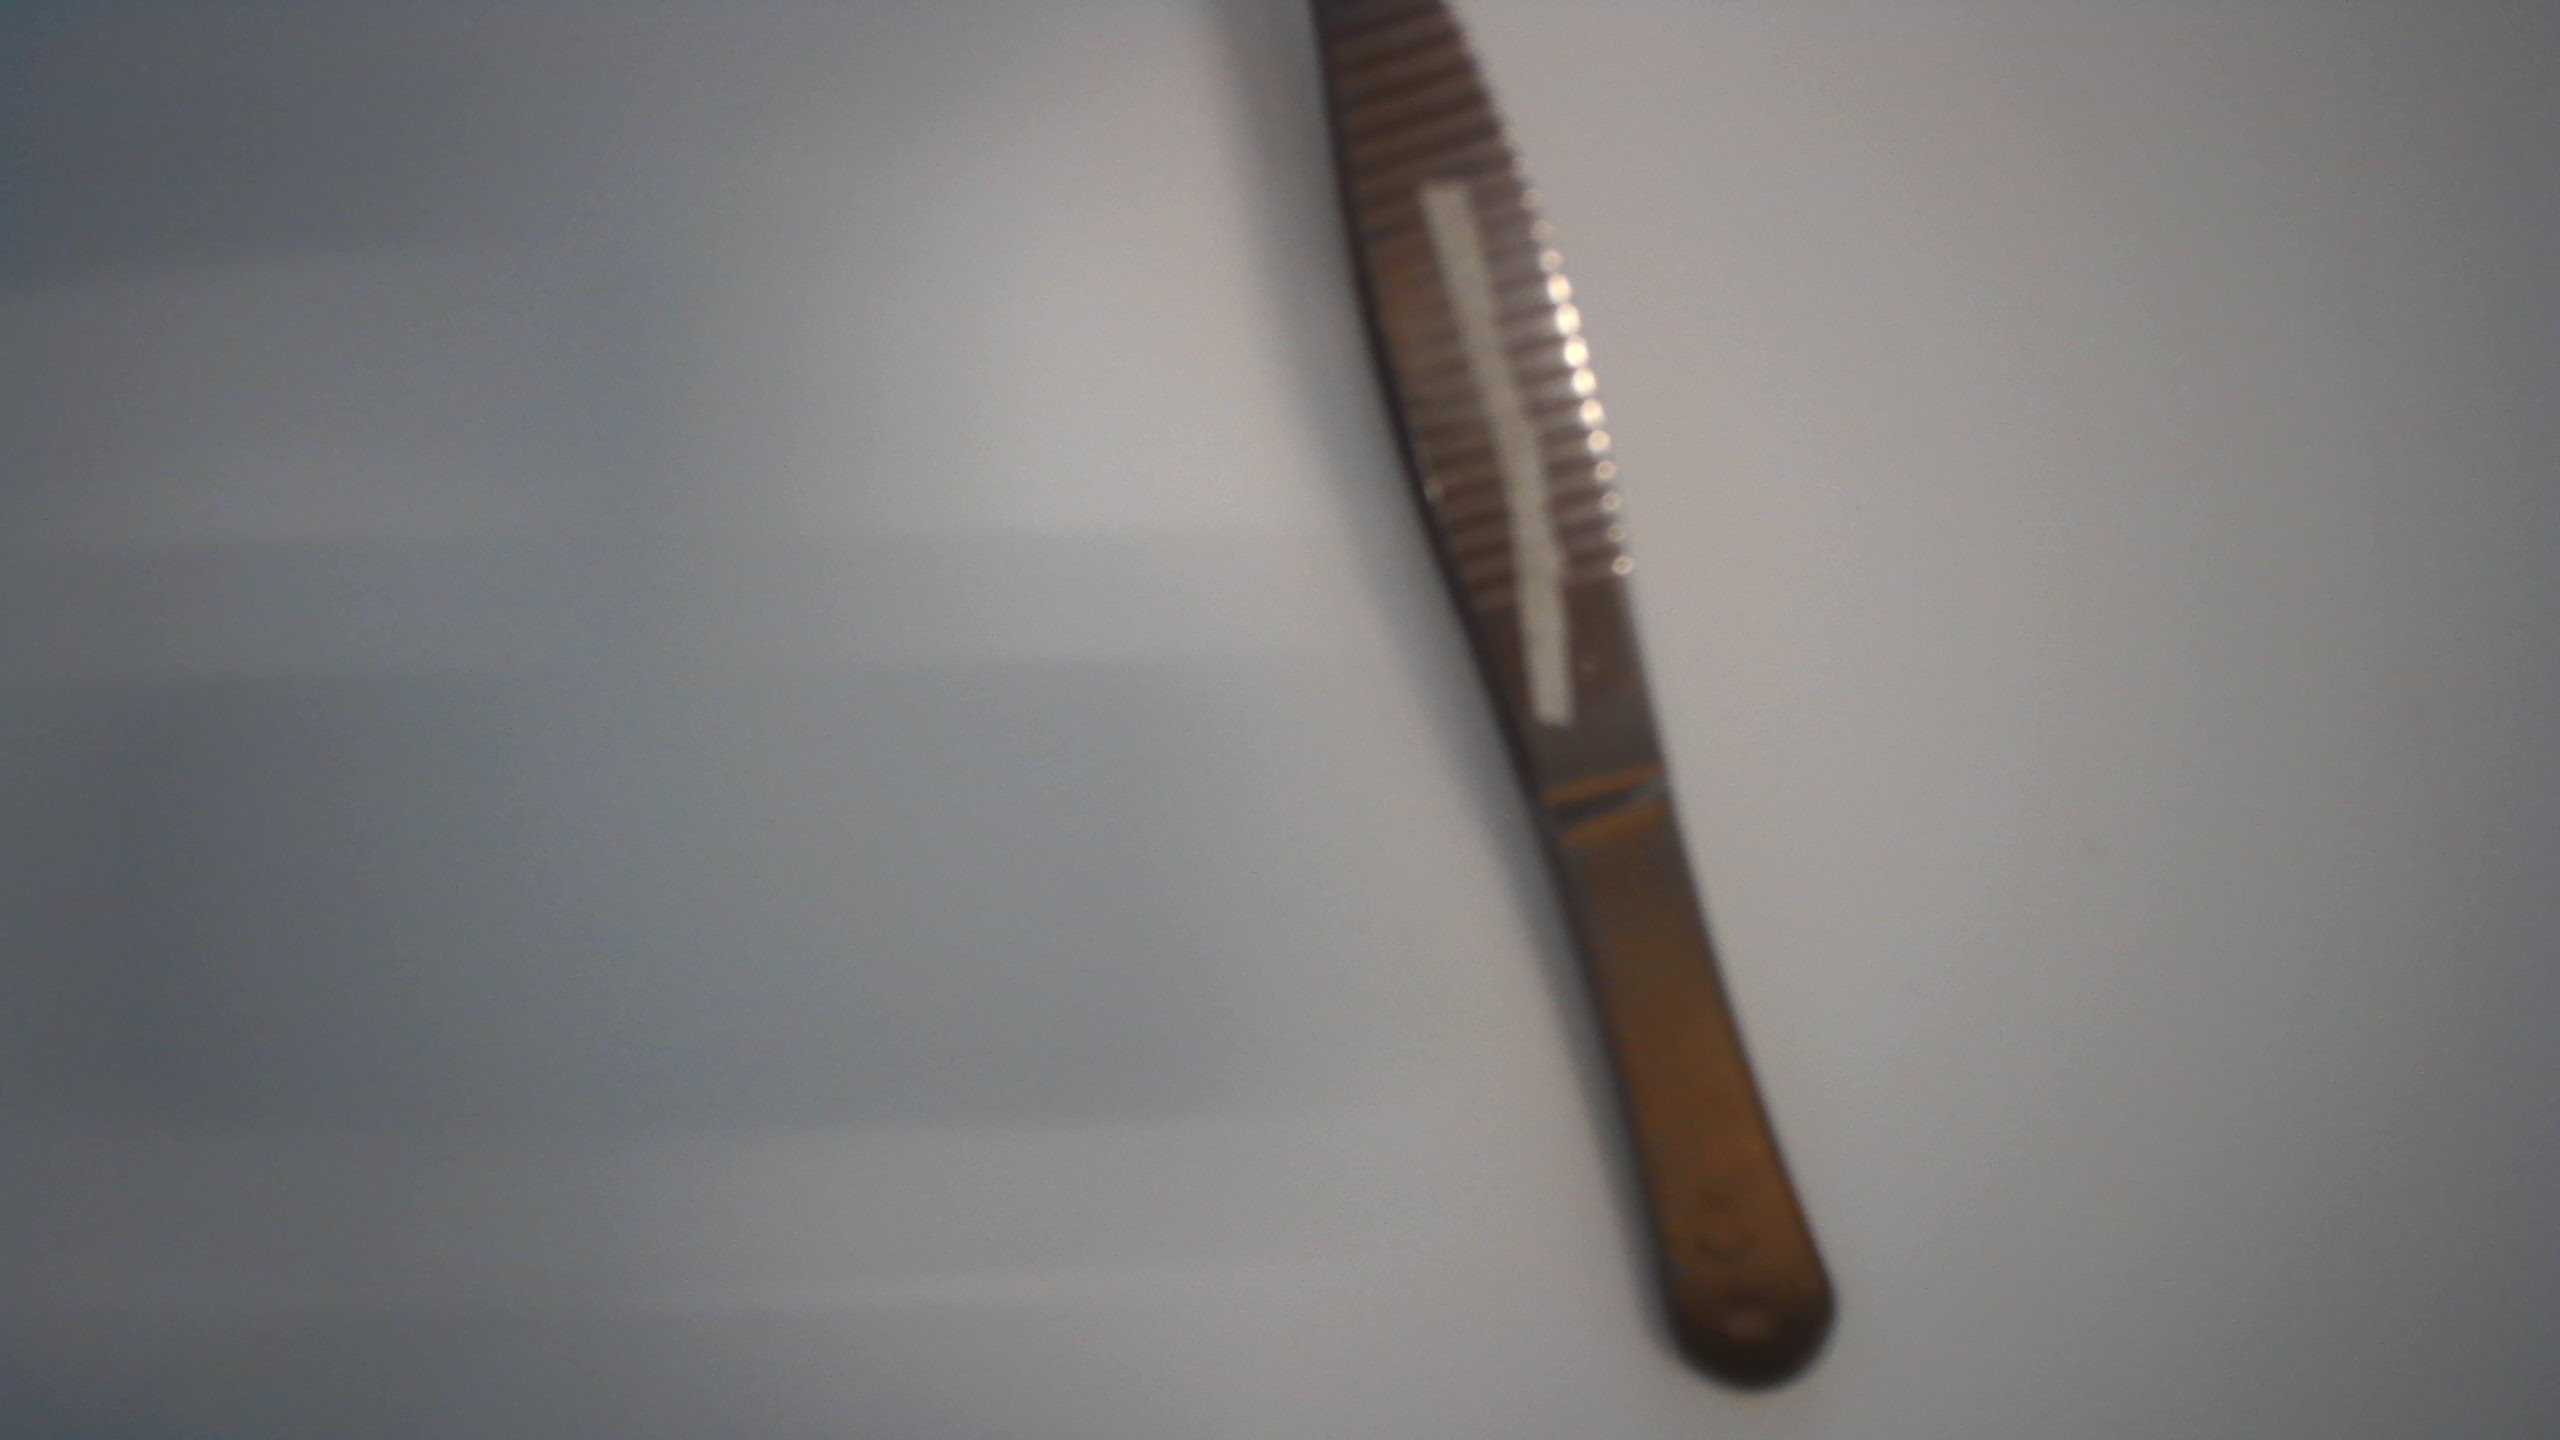Scratches: (1398, 155, 1640, 745)
